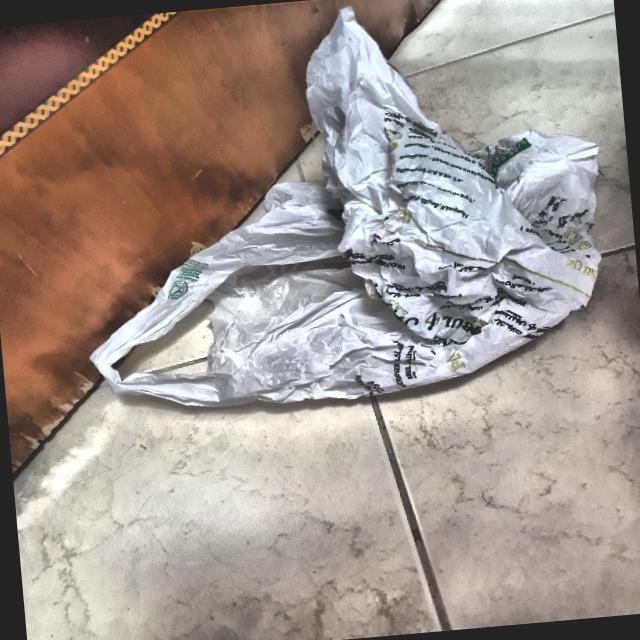plastic bag: (44, 0, 636, 433)
